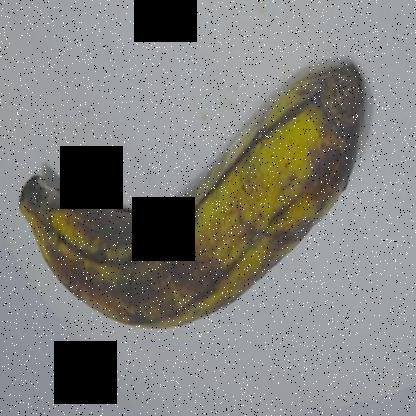overripe: (0, 51, 372, 347)
rotten: (12, 161, 95, 258)
